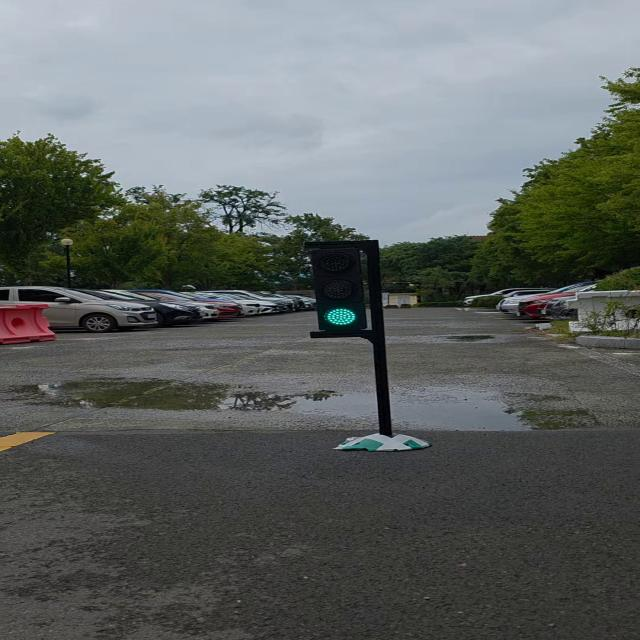green: (308, 241, 388, 340)
